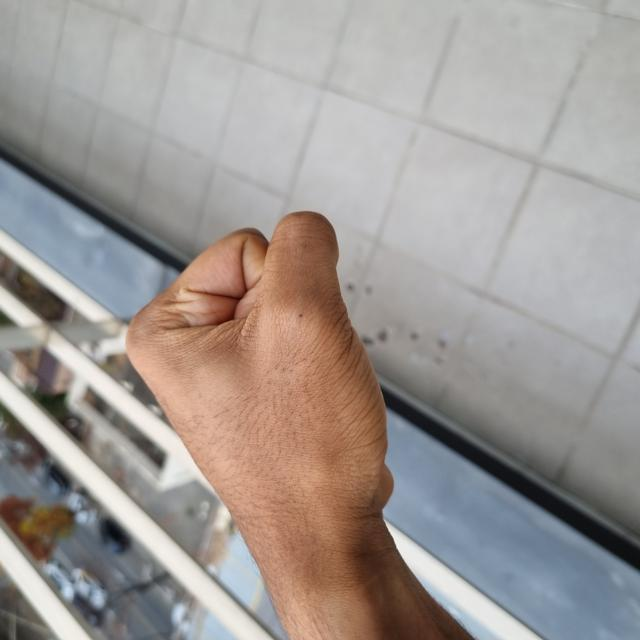Rock: (76, 125, 427, 386)
